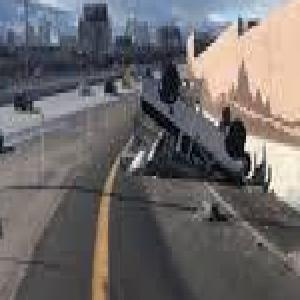critical: (130, 54, 252, 189)
